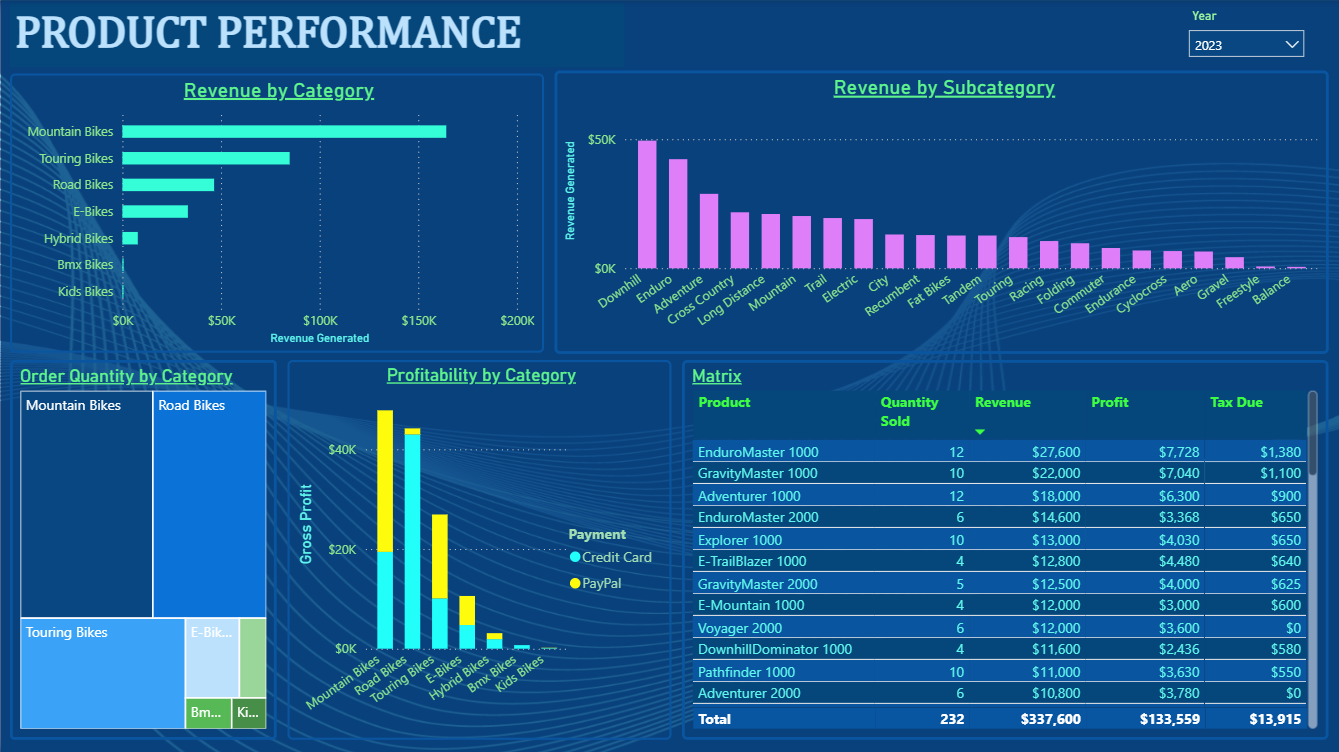

The page's visual inventory and layout, read from the dashboard file:
{"tool":"powerbi","page":{"name":"Product Performance","canvas":[1280,720],"ordinal":1},"visuals":[{"type":"clusteredBarChart","title":"Revenue by Category ","fields":{"Category":["Sales.Product Category "],"Y":["Sum(Sales.Sales Amount)"]},"box":[8,70.3,509.7,266.8],"z":0},{"type":"treemap","fields":{"Group":["Sales.Product Category "],"Values":["Sum(Sales.Order Quantity)"]},"box":[8,343.8,254.8,362.4],"z":1000},{"type":"clusteredColumnChart","title":"Revenue by Subcategory","fields":{"Category":["Sales.Product Subcategory"],"Y":["Sum(Sales.Sales Amount)"]},"box":[528.3,67.7,739.3,270.8],"z":2000},{"type":"tableEx","title":"Matrix","fields":{"Values":["Sales.Product Name","Sum(Sales.Order Quantity)","Sum(Sales.Sales Amount)","Sum(Sales.Profit)","Sum(Sales.Tax Due)"]},"box":[650.6,343.6,617.2,362.7],"z":3000},{"type":"slicer","fields":{"Values":["Date.Year"]},"box":[1124.3,2.7,130.1,58.4],"z":4000},{"type":"columnChart","title":"Profitability by Category","fields":{"Category":["Sales.Product Category "],"Series":["Sales.Payment Method"],"Y":["Sum(Sales.Profit)"]},"box":[273.4,343.8,366.3,362.4],"z":5000},{"type":"textbox","box":[8,2.7,586.7,61.1],"z":6001}]}

Visuals, with their boxes in screenshot pixels (x1, y1, x2, y2), scaled from the page's 1280x720 canvas onto the 1339x752 screenshot:
"Revenue by Category " clusteredBarChart: box(8, 73, 542, 352)
treemap - Sales.Product Category  x Sum(Sales.Order Quantity): box(8, 359, 275, 738)
"Revenue by Subcategory" clusteredColumnChart: box(553, 71, 1326, 354)
"Matrix" tableEx: box(681, 359, 1326, 738)
slicer - Date.Year: box(1176, 3, 1312, 64)
"Profitability by Category" columnChart: box(286, 359, 669, 738)
textbox: box(8, 3, 622, 67)
